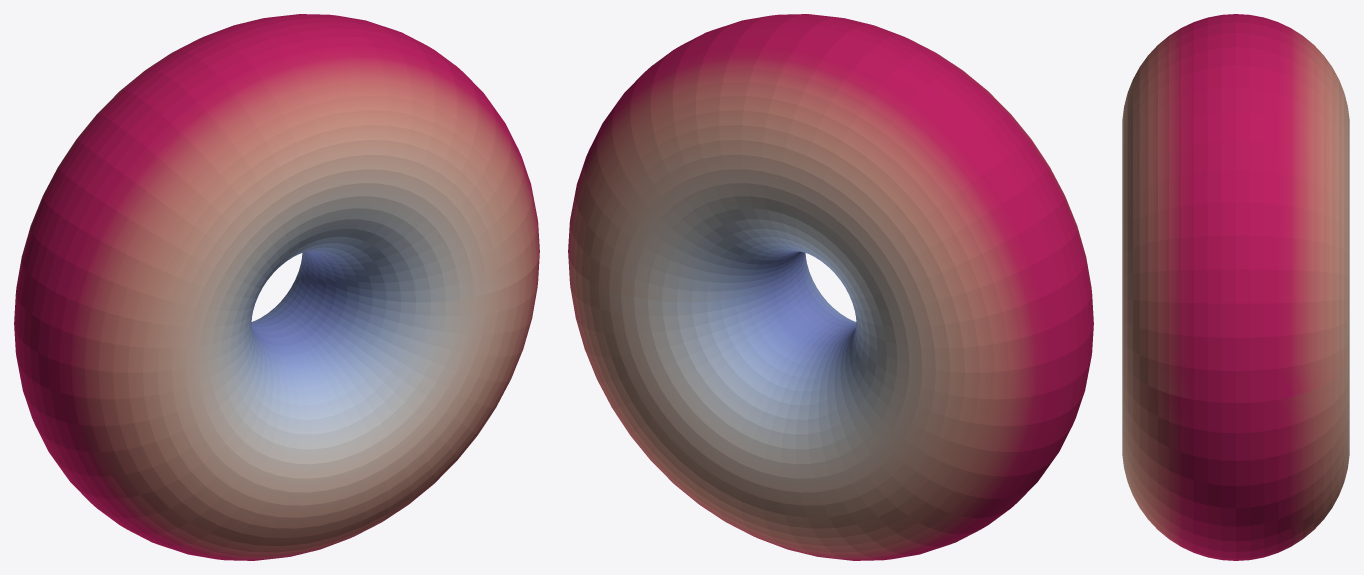
3 views of the same model, side by side, from view 1: azimuth 30°, elevation 25°; view 2: azimuth 150°, elevation 25°; view 3: azimuth 270°, elevation 25° (orthographic). The views are drawn at different scales.
Visible parts, largest first — view 1: world; view 2: world; view 3: world.
Boxes of the visible parts, box(x1,y1,x2,y2) form: world: box(14, 14, 539, 560); world: box(568, 14, 1093, 560); world: box(1122, 14, 1349, 560).
Size of the model in its own units: 24 by 23.95 by 9.98.
